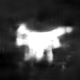plane: (13, 22, 73, 64)
